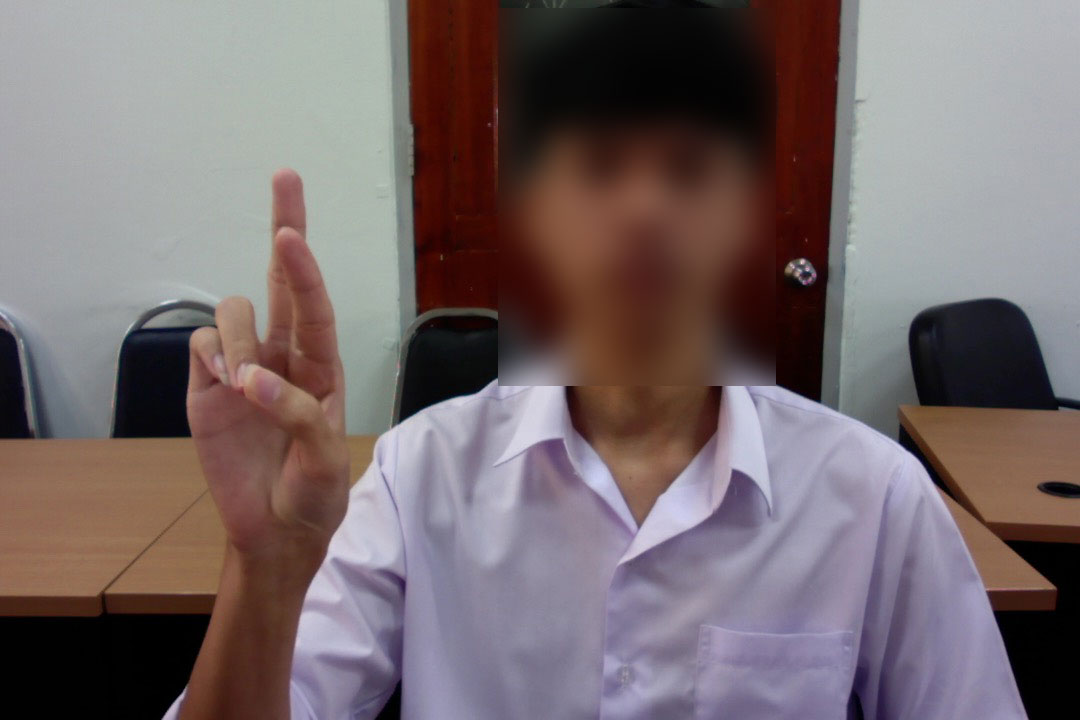rao: (159, 170, 372, 577)
